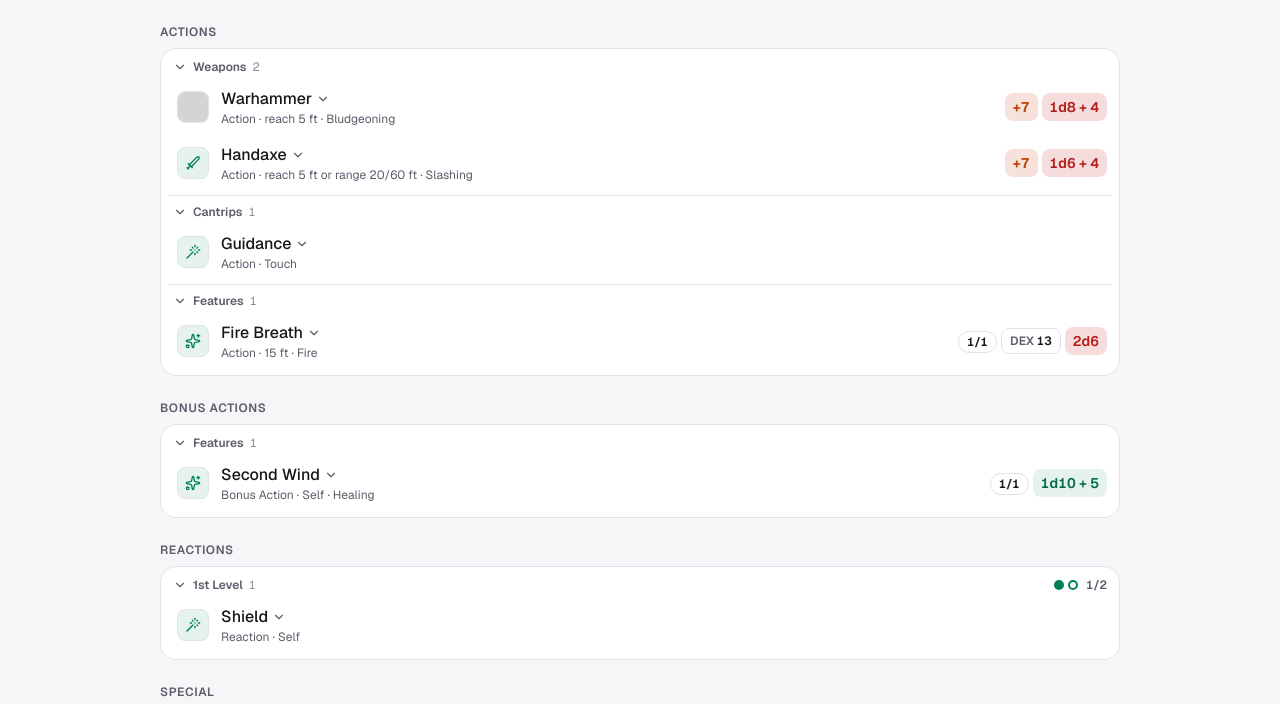
Test case: components/character-sheet/actions-tab › opens to a saving throw, uses and healing in words
The width and height of the screenshot is (1280, 704).
Click the button "Fire Breath Action · 15 ft · Fire".
click(193, 341)  # box [171, 319, 950, 363]
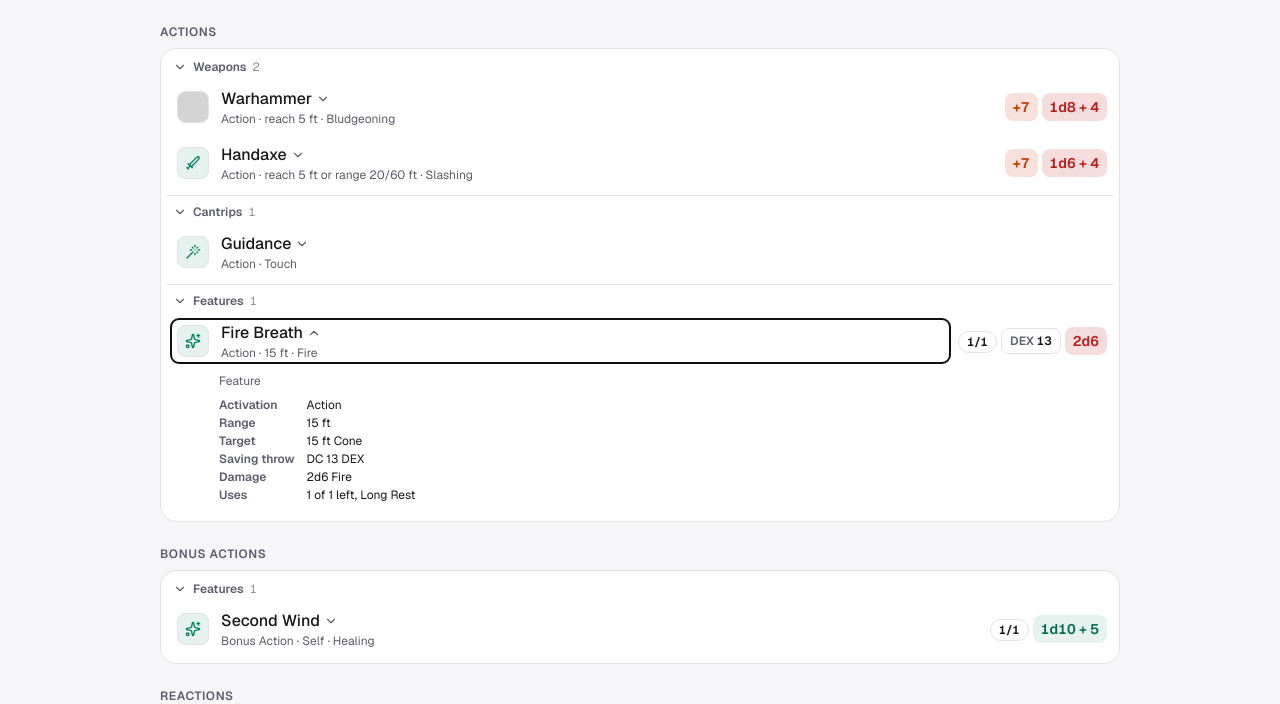
Click the button "Second Wind Bonus Action · Self · Healing".
click(193, 629)  # box [171, 607, 982, 651]
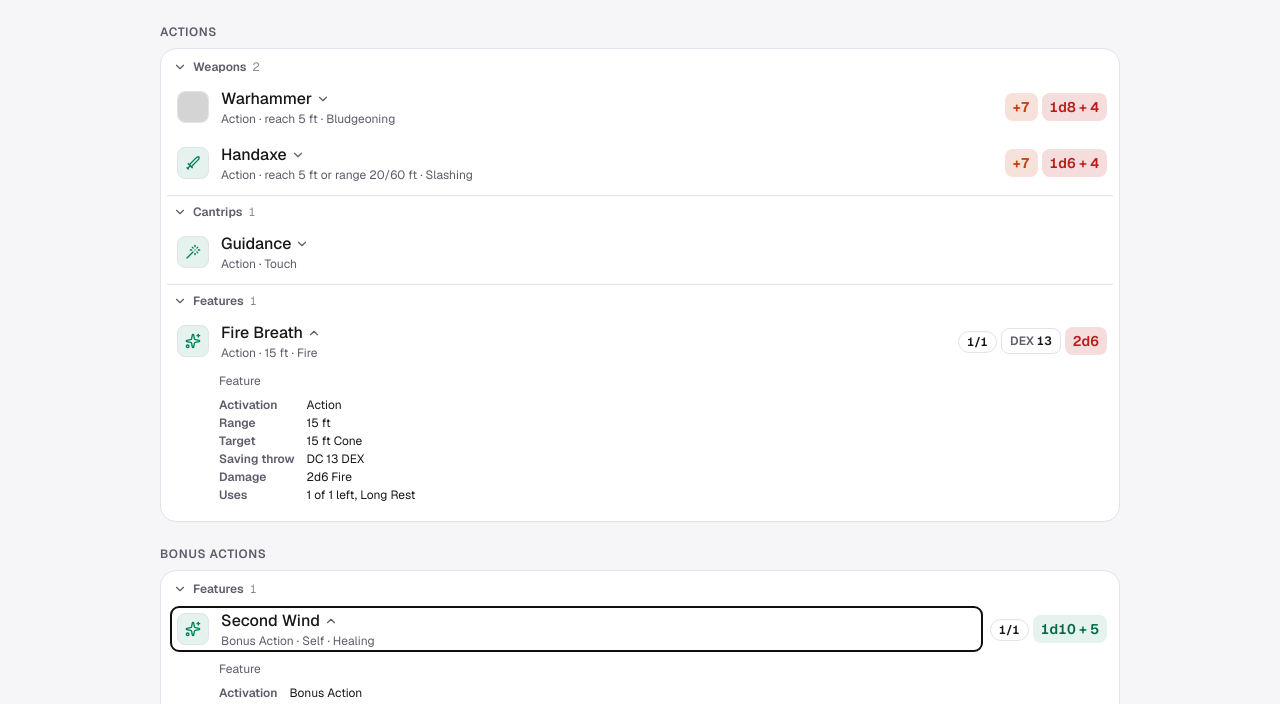
Expected: the text "Feature" is shown 2 times, [219, 373, 261, 389]; [219, 661, 261, 677]
